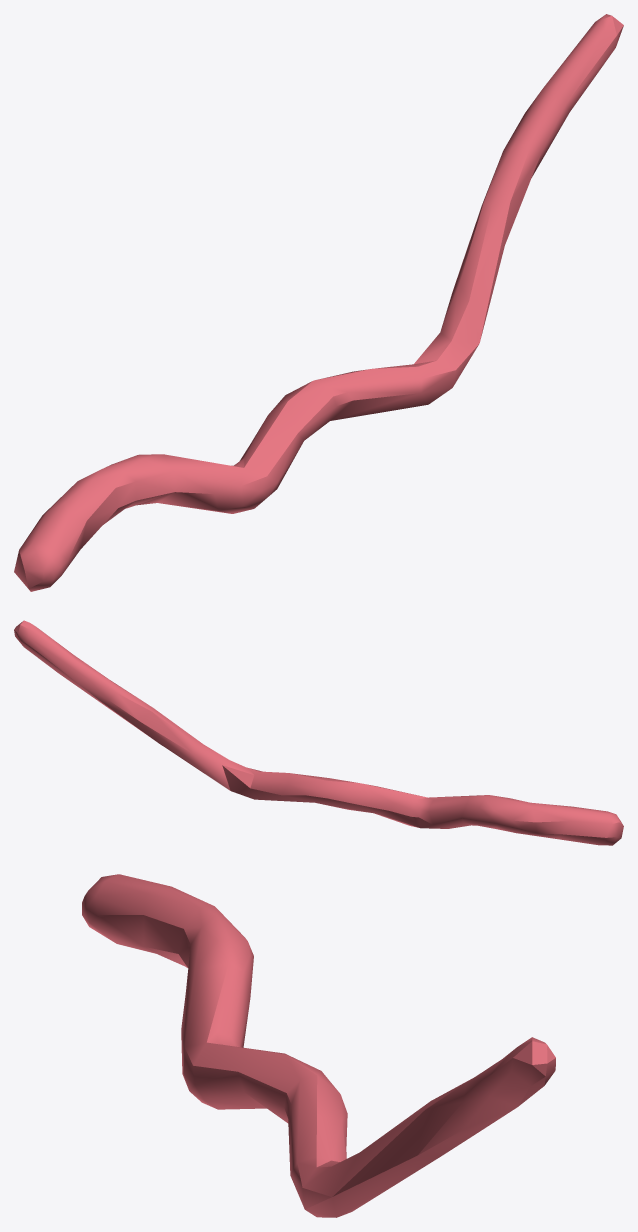
File: fma3837_fj2717.glb
3 views of the same model, one above another, from view 1: azimuth 30°, elevation 25°; view 2: azimuth 150°, elevation 25°; view 3: azimuth 270°, elevation 25° (orthographic). The views are drawn at different scales.
Visible parts, largest first — view 1: FMA3837_FJ2717; view 2: FMA3837_FJ2717; view 3: FMA3837_FJ2717.
Boxes of the visible parts, x1,y1,x2,y2 form: FMA3837_FJ2717: (14,14,623,591); FMA3837_FJ2717: (14,620,623,845); FMA3837_FJ2717: (82,874,555,1217).
Size of the model in its own units: 0.0161 by 0.00576 by 0.00661.
